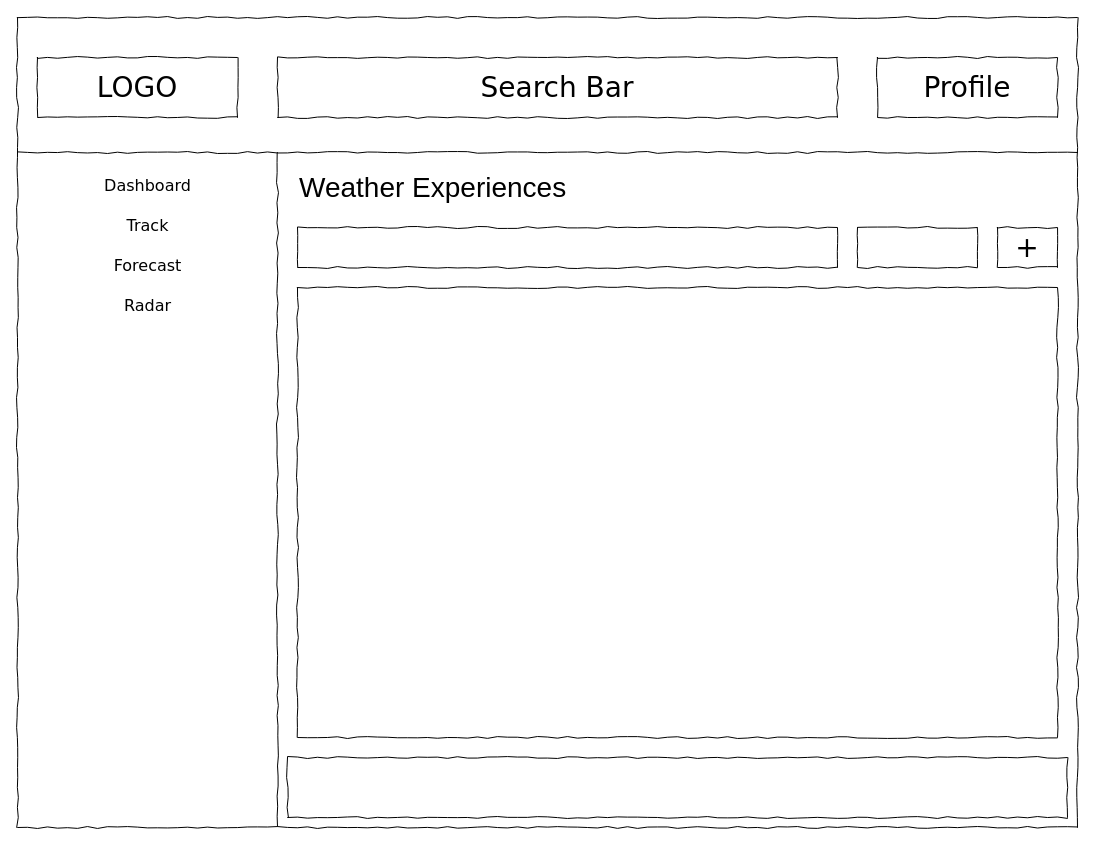
Some shapes in this 1095 by 845 pixel diagram are drawn without their labels. Here are the shapes that lost their labels. From the top down, the centre of each, then its label:
At point 567,247: "Search".
At point 917,247: "Filters".
